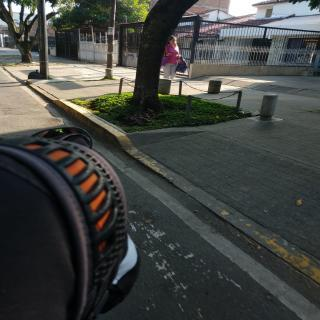Garbage: (26, 69, 46, 82)
